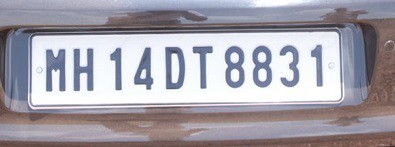numberPlate: (14, 29, 351, 105)
